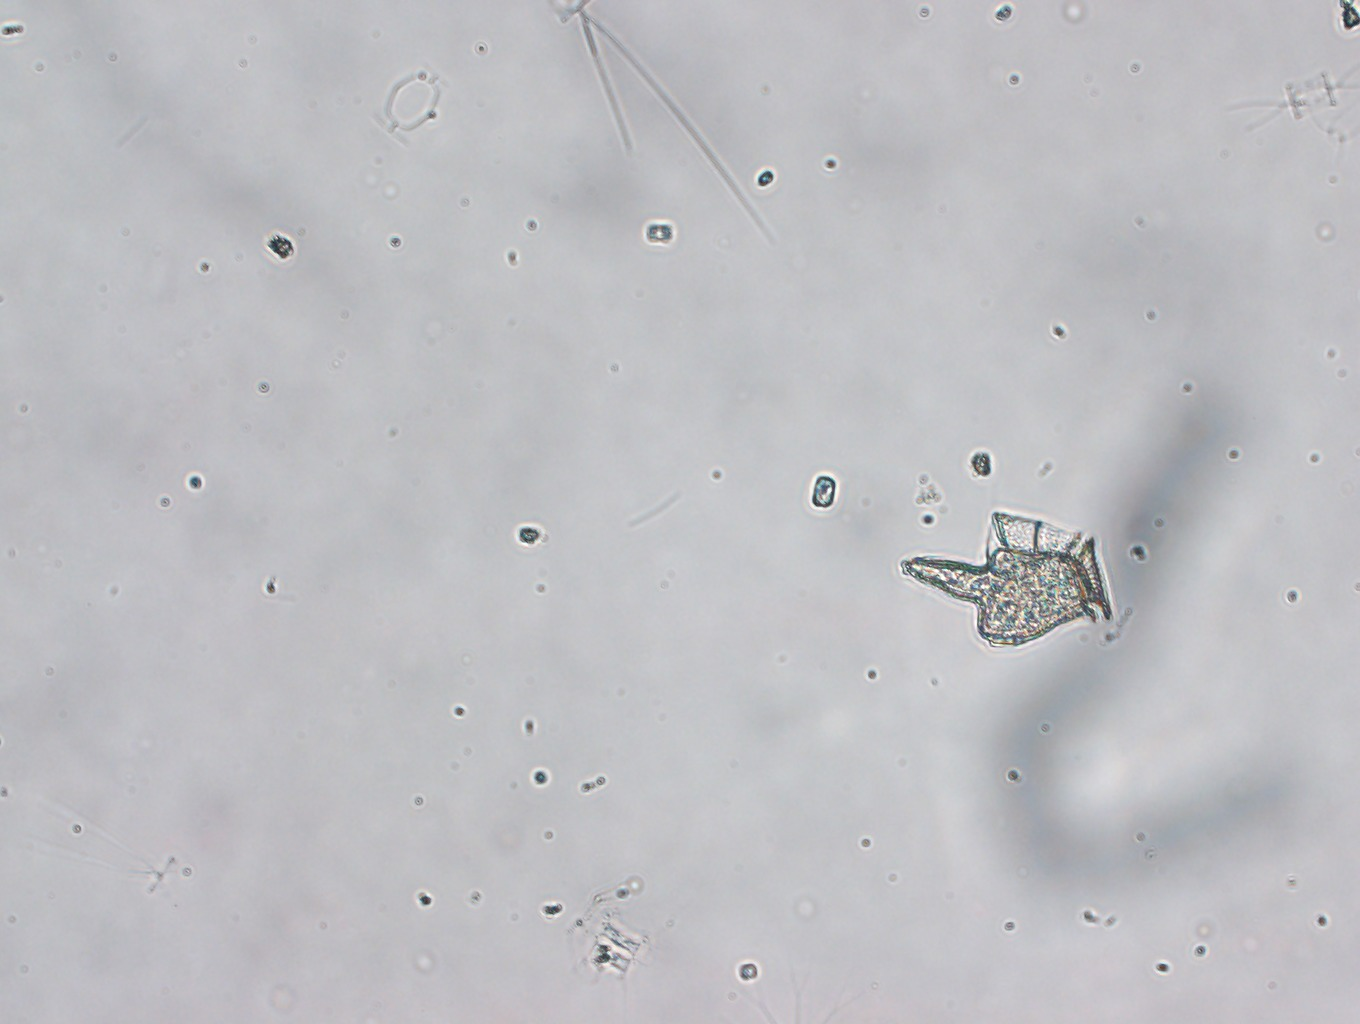dinophysis caudata: (899, 511, 1114, 650)
